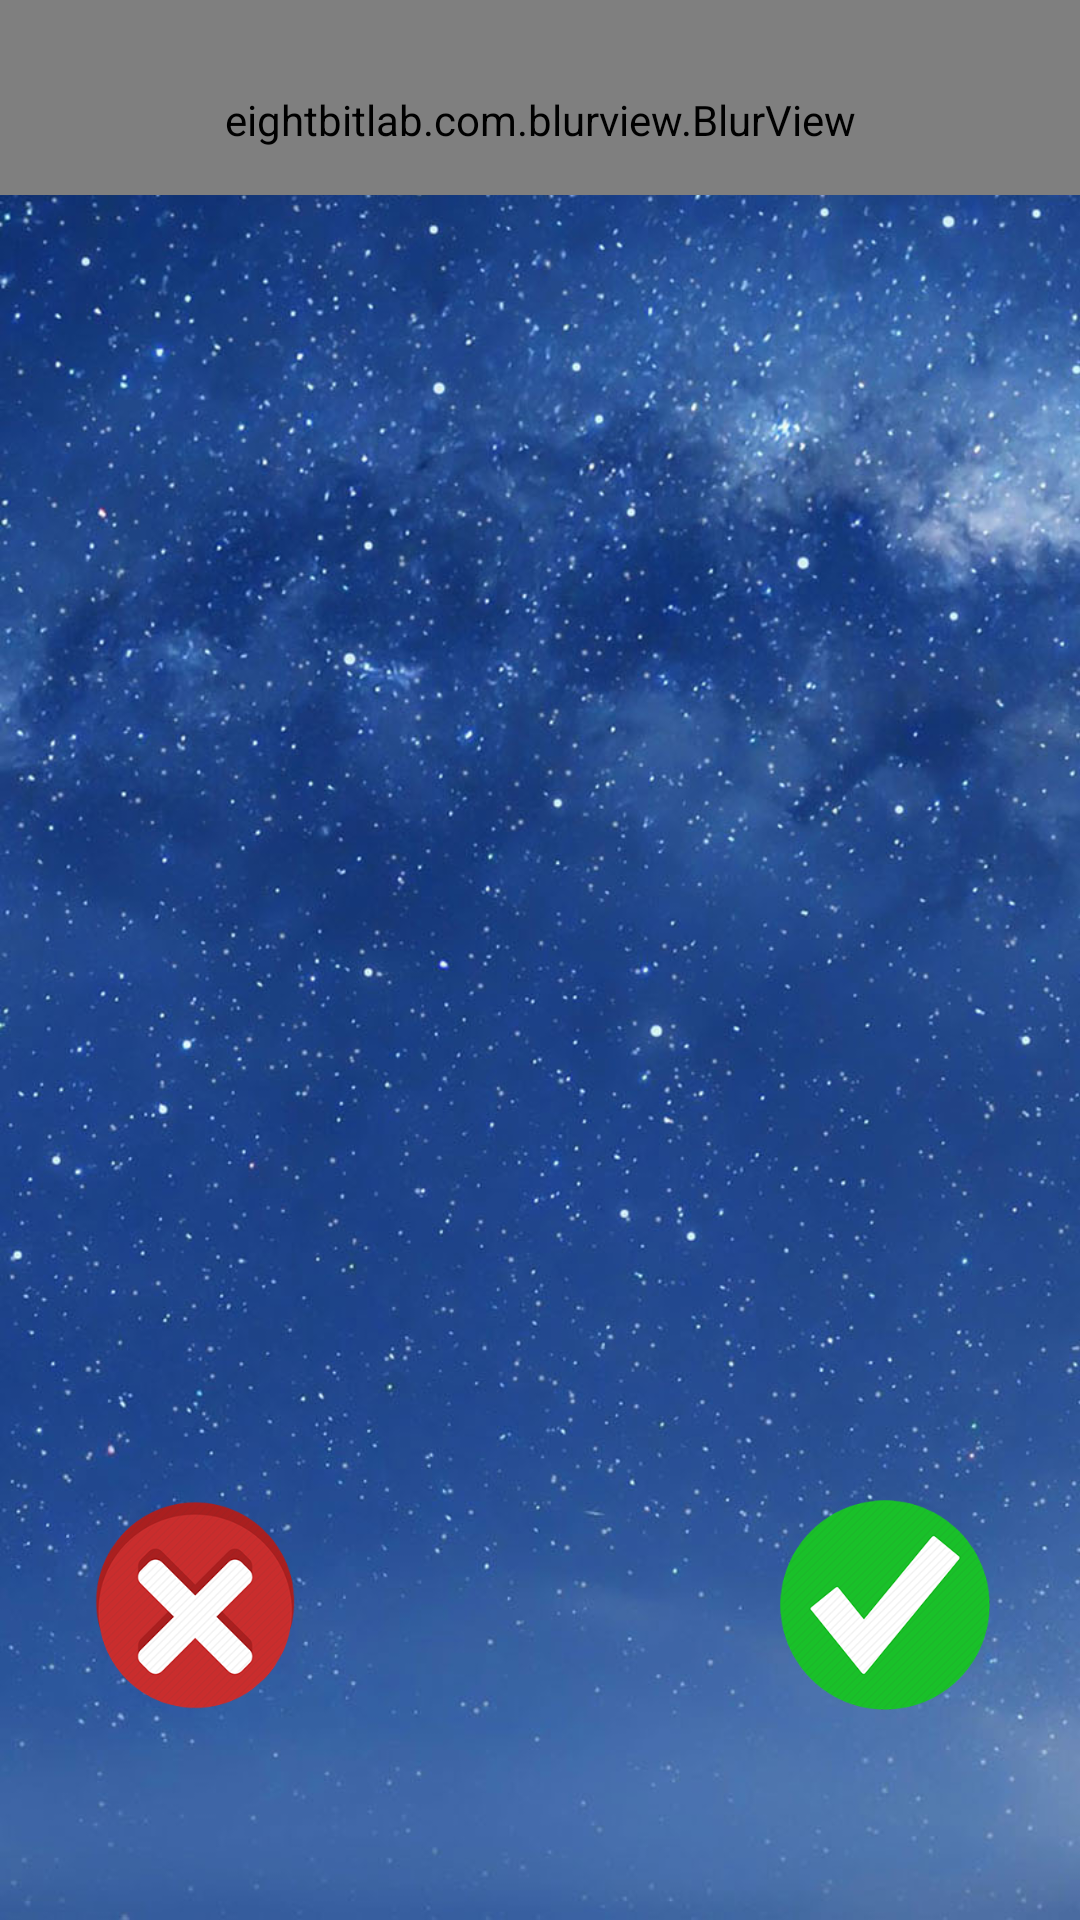

Locate icon controls on the screen. Image size 1080 × 1920, boxes as (x1, y1, x2, y2).
yes: (780, 1500, 990, 1710)
